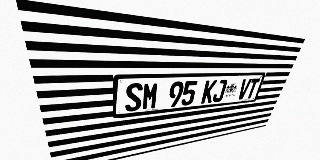5: (181, 81, 198, 106)
9: (167, 81, 185, 107)
J: (211, 79, 228, 102)
K: (201, 80, 217, 104)
M: (142, 82, 159, 110)
S: (125, 83, 143, 112)
T: (245, 78, 260, 99)
V: (236, 79, 252, 100)
